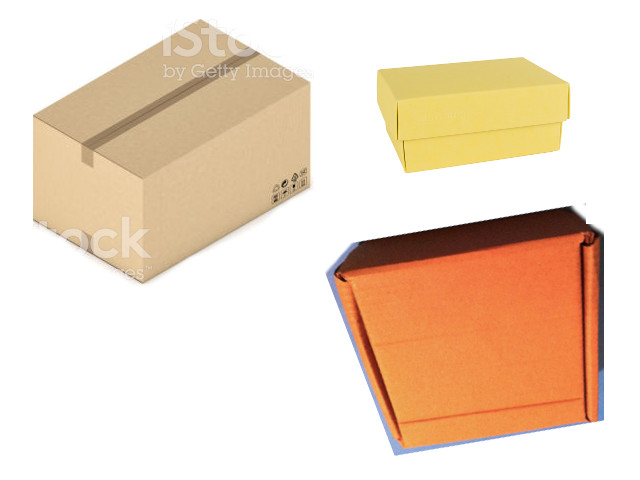cardboard: (34, 21, 312, 281), (336, 208, 599, 450), (375, 58, 569, 174)
